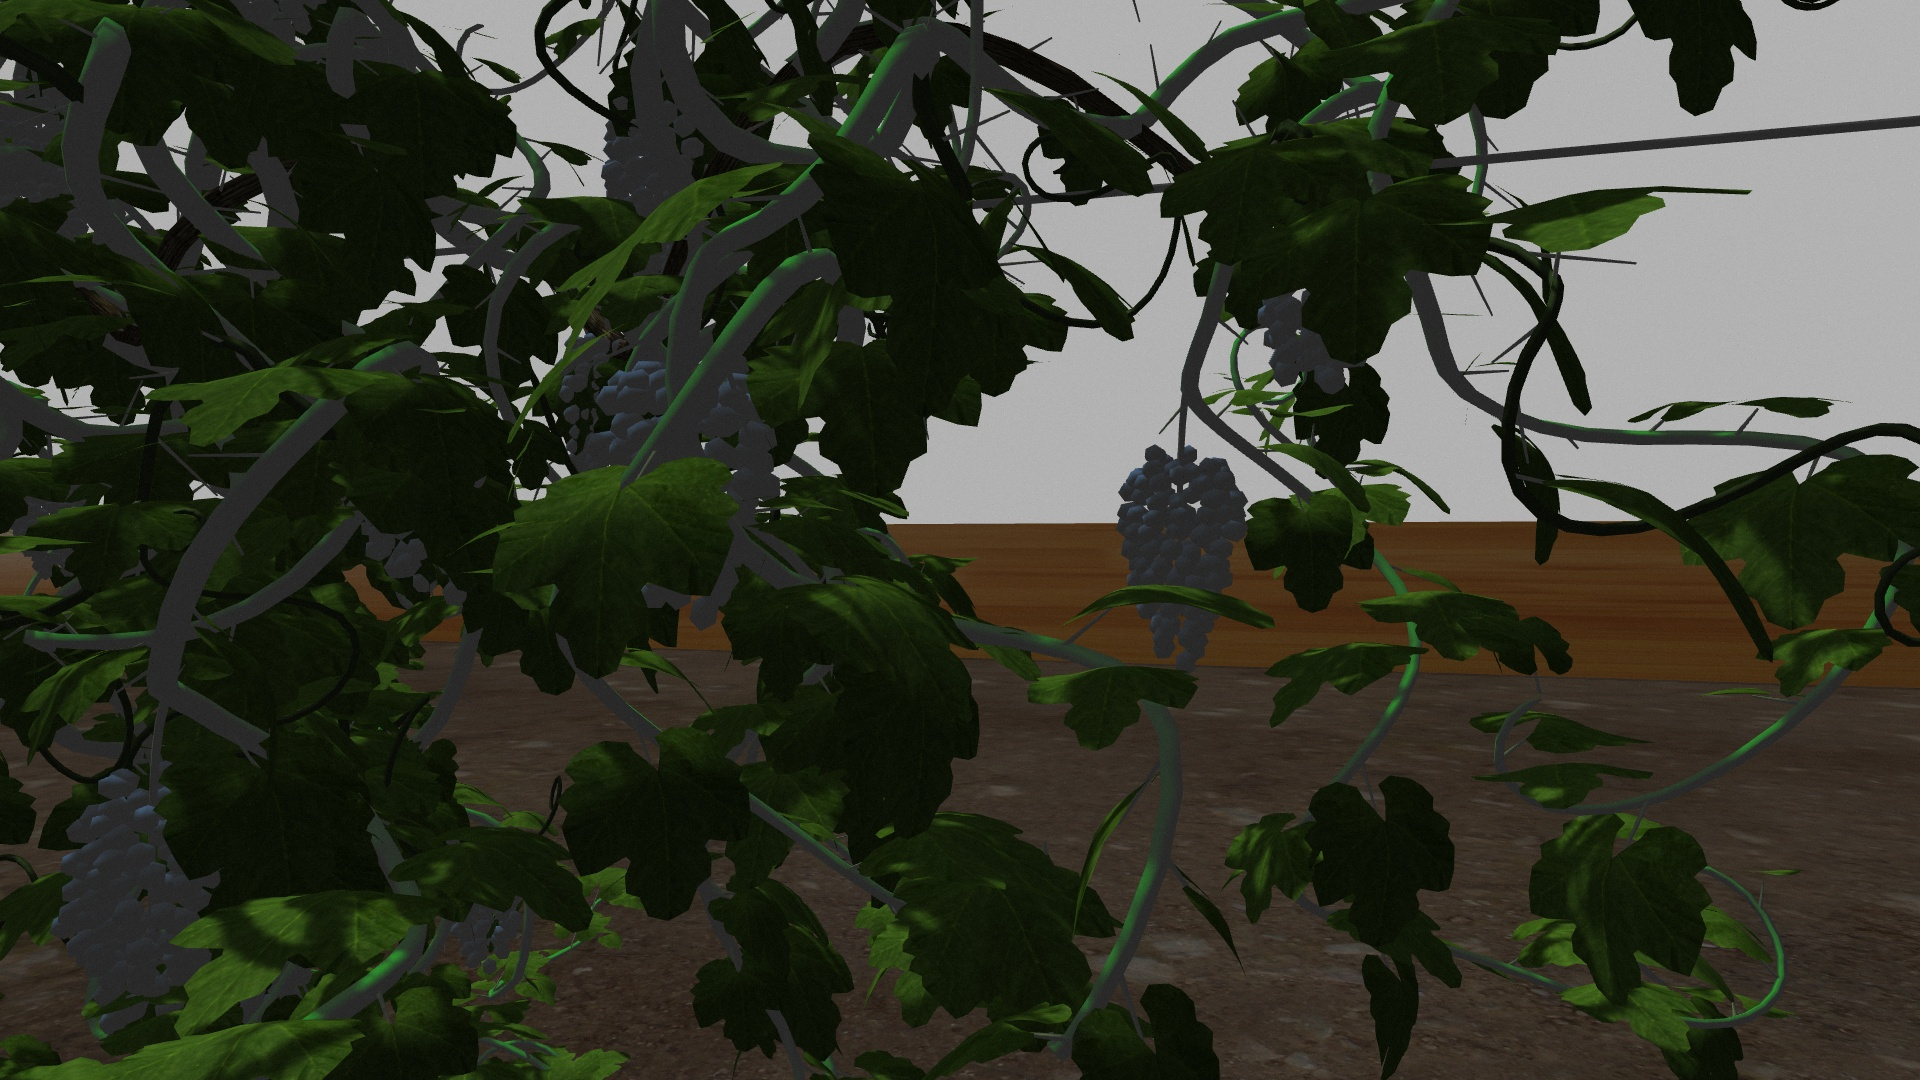grape: (603, 364, 775, 615), (51, 771, 215, 1033), (1116, 448, 1246, 673), (1257, 301, 1361, 393)
